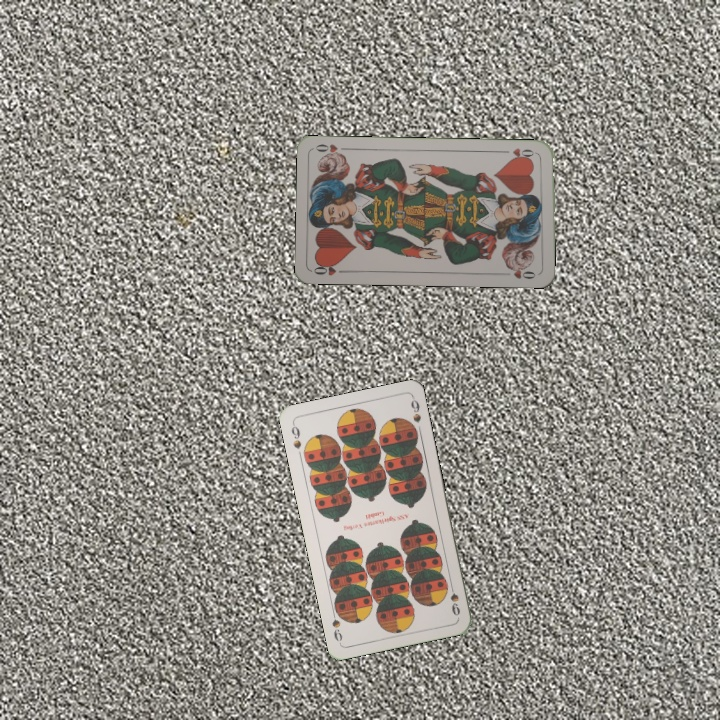HO: (500, 144, 541, 162), (309, 260, 350, 278)
S9: (446, 579, 463, 618), (287, 419, 304, 451)
